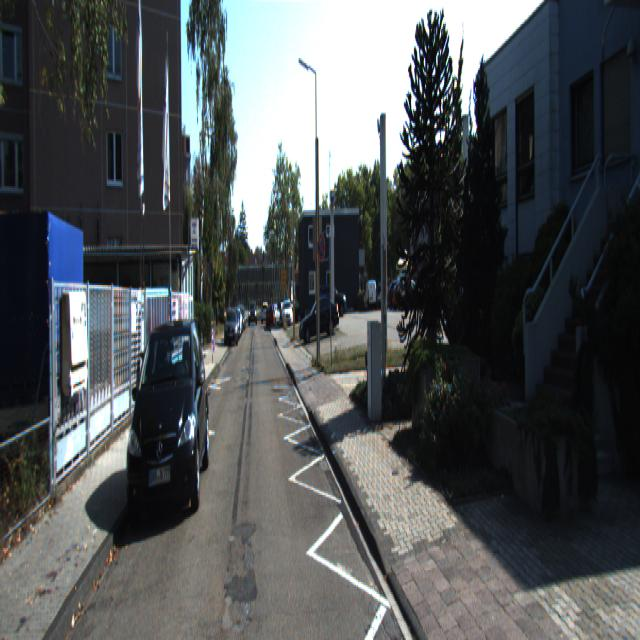Car: (124, 316, 211, 534), (298, 294, 342, 348)
